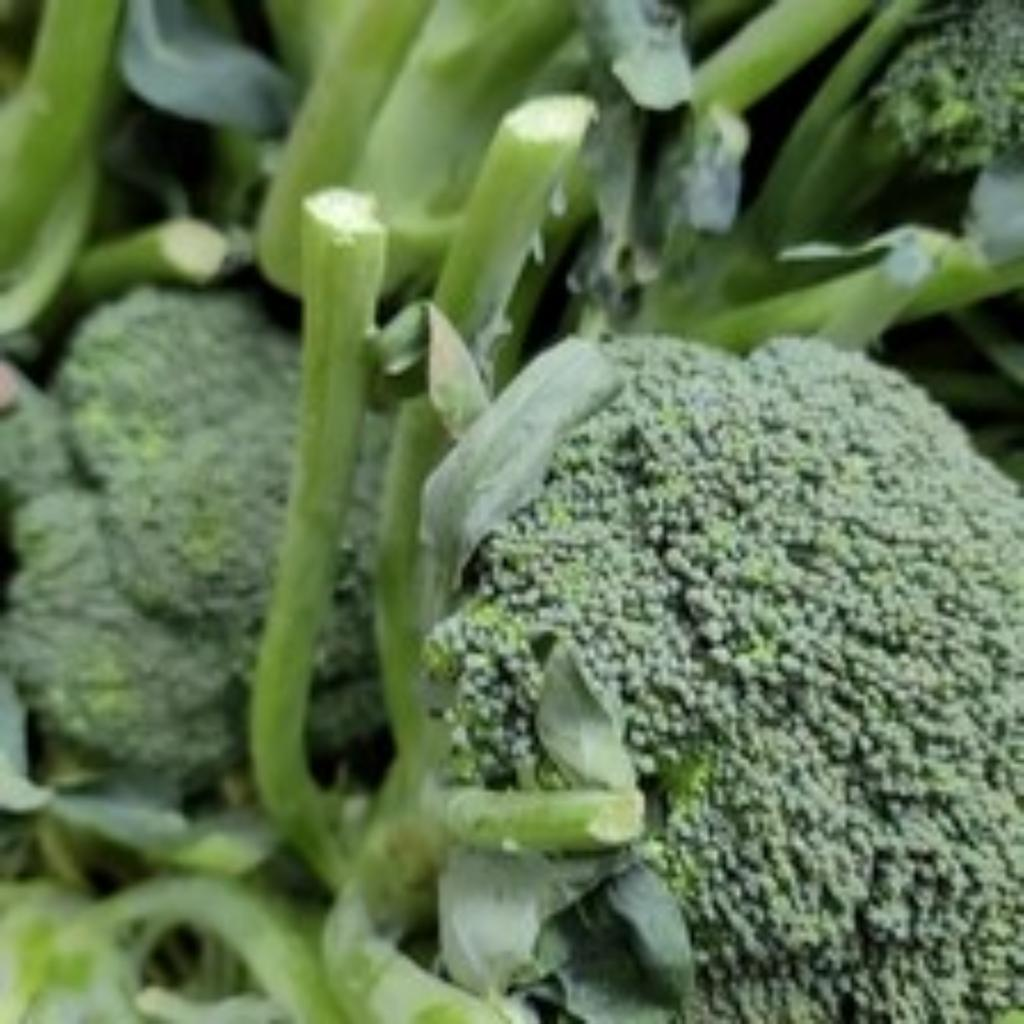Broccoli: (434, 340, 1024, 1024), (452, 340, 1024, 1024), (0, 290, 296, 803), (0, 290, 298, 795), (0, 288, 298, 789), (308, 414, 390, 784), (312, 472, 382, 771)
